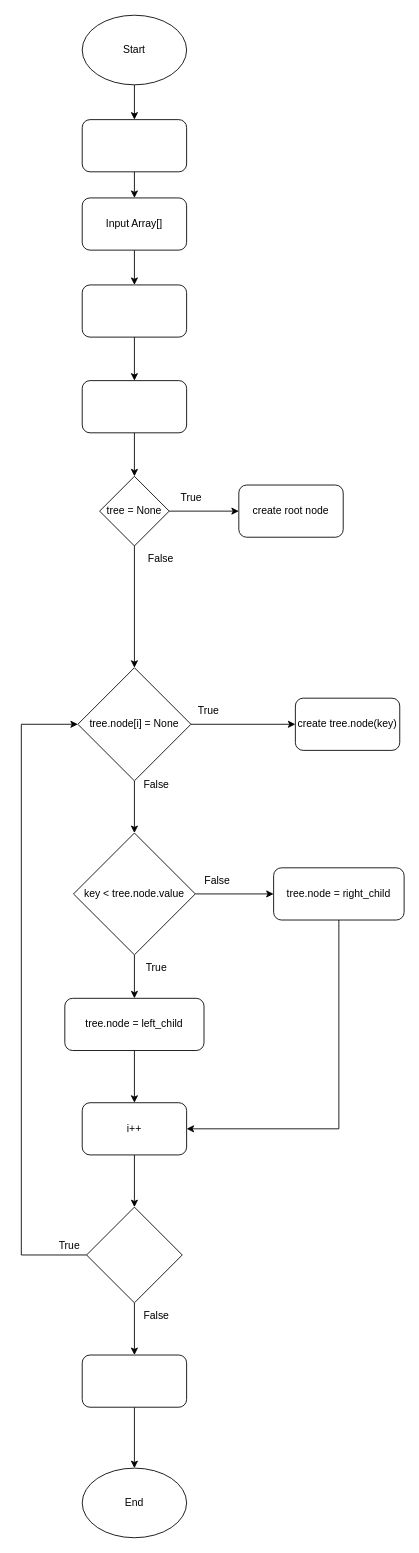
Some shapes in this 419 by 1553 pixel diagram are drawn without their labels. Each missing label, with the centre of its shape:
Function go_through_array: pixel 134 310
i < aarray.lenght: pixel 134 1254
Initialize Binary Tree: pixel 134 145
Insert element: pixel 134 406
print array: pixel 134 1380
